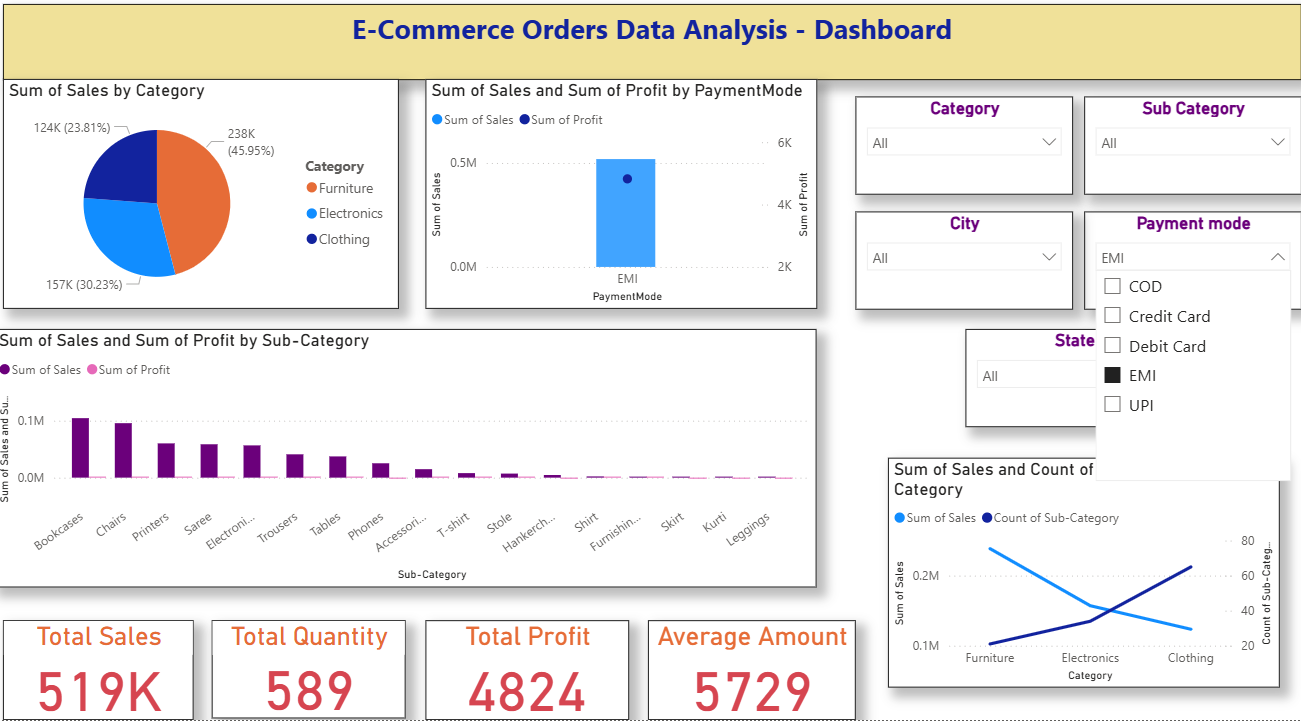

What the dashboard file says about the page in this screenshot:
{"tool":"powerbi","page":{"name":"Main Dashboard","canvas":[1280,720],"ordinal":0},"visuals":[{"type":"textbox","box":[9.6,0,1270.7,79.6],"z":0},{"type":"card","title":"Total Quantity","fields":{"Values":["Sum(Details.Quantity)"]},"box":[214.1,623,189.4,96.1],"z":1000},{"type":"card","title":"Total Sales","fields":{"Values":["Sum(Details.Sales)"]},"box":[9.6,623,186.6,97.4],"z":2000},{"type":"card","title":"Total Profit","fields":{"Values":["Sum(Details.Profit)"]},"box":[422.6,623,199,97.4],"z":3000},{"type":"card","title":"Average Amount","fields":{"Values":["Max(Details.Amount)"]},"box":[640.8,623,203.1,97.4],"z":4000},{"type":"pieChart","fields":{"Category":["Details.Category"],"Y":["Sum(Details.Sales)"]},"box":[9.6,93.3,387,225],"z":5000},{"type":"lineClusteredColumnComboChart","fields":{"Category":["Details.PaymentMode"],"Y":["Sum(Details.Sales)"],"Y2":["Sum(Details.Profit)"]},"box":[422.6,93.3,382.8,225],"z":6000},{"type":"lineClusteredColumnComboChart","fields":{"Category":["Details.Sub-Category"],"Y":["Sum(Details.Sales)","Sum(Details.Profit)"]},"box":[0,337.6,805.5,252.5],"z":7000},{"type":"slicer","title":"Category","fields":{"Values":["Details.Category"]},"box":[843.9,109.8,212.7,96.1],"z":8000},{"type":"slicer","title":"Payment mode","fields":{"Values":["Details.PaymentMode"]},"box":[1067.6,222.3,212.7,96.1],"z":9000},{"type":"slicer","title":"Sub Category","fields":{"Values":["Details.Sub-Category"]},"box":[1067.6,109.8,212.7,96.1],"z":10000},{"type":"slicer","title":"City","fields":{"Values":["Orders.City"]},"box":[843.9,222.3,212.7,96.1],"z":11000},{"type":"slicer","title":"State","fields":{"Values":["Orders.State"]},"box":[950.9,337.6,212.7,96.1],"z":12000},{"type":"clusteredColumnChart","fields":{"Category":["Details.Category"],"Y":["Sum(Details.Profit)"]},"box":[901.5,448.7,312.9,260.7],"z":13000}]}

Visuals, with their boxes in screenshot pixels (x1, y1, x2, y2), scaled from the page's 1280x720 canvas onto the 1301x721 screenshot:
textbox: detection(10, 0, 1300, 80)
"Total Quantity" card: detection(218, 624, 410, 720)
"Total Sales" card: detection(10, 624, 199, 720)
"Total Profit" card: detection(430, 624, 632, 720)
"Average Amount" card: detection(651, 624, 858, 720)
pieChart - Details.Category x Sum(Details.Sales): detection(10, 93, 403, 319)
lineClusteredColumnComboChart - Details.PaymentMode x Sum(Details.Sales): detection(430, 93, 819, 319)
lineClusteredColumnComboChart - Details.Sub-Category x Sum(Details.Sales): detection(0, 338, 819, 591)
"Category" slicer: detection(858, 110, 1074, 206)
"Payment mode" slicer: detection(1085, 223, 1300, 319)
"Sub Category" slicer: detection(1085, 110, 1300, 206)
"City" slicer: detection(858, 223, 1074, 319)
"State" slicer: detection(967, 338, 1183, 434)
clusteredColumnChart - Details.Category x Sum(Details.Profit): detection(916, 449, 1234, 710)
